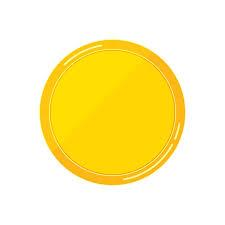yellow_circle: (39, 39, 188, 186)
